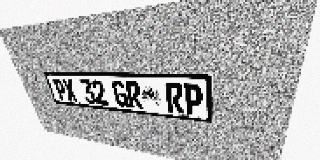2: (90, 80, 108, 105)
3: (79, 79, 97, 104)
G: (111, 81, 130, 108)
P: (183, 83, 203, 116), (52, 78, 69, 101)
R: (165, 83, 184, 114), (125, 81, 143, 109)
X: (61, 79, 79, 102)
